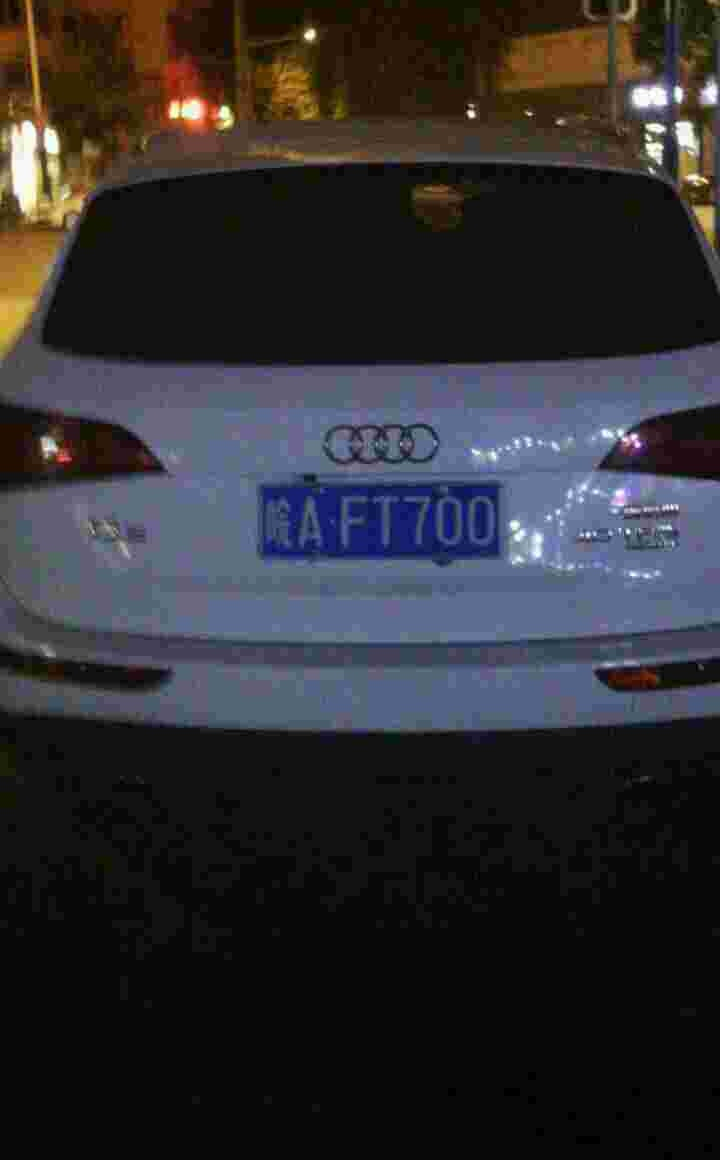plate: (259, 480, 508, 563)
